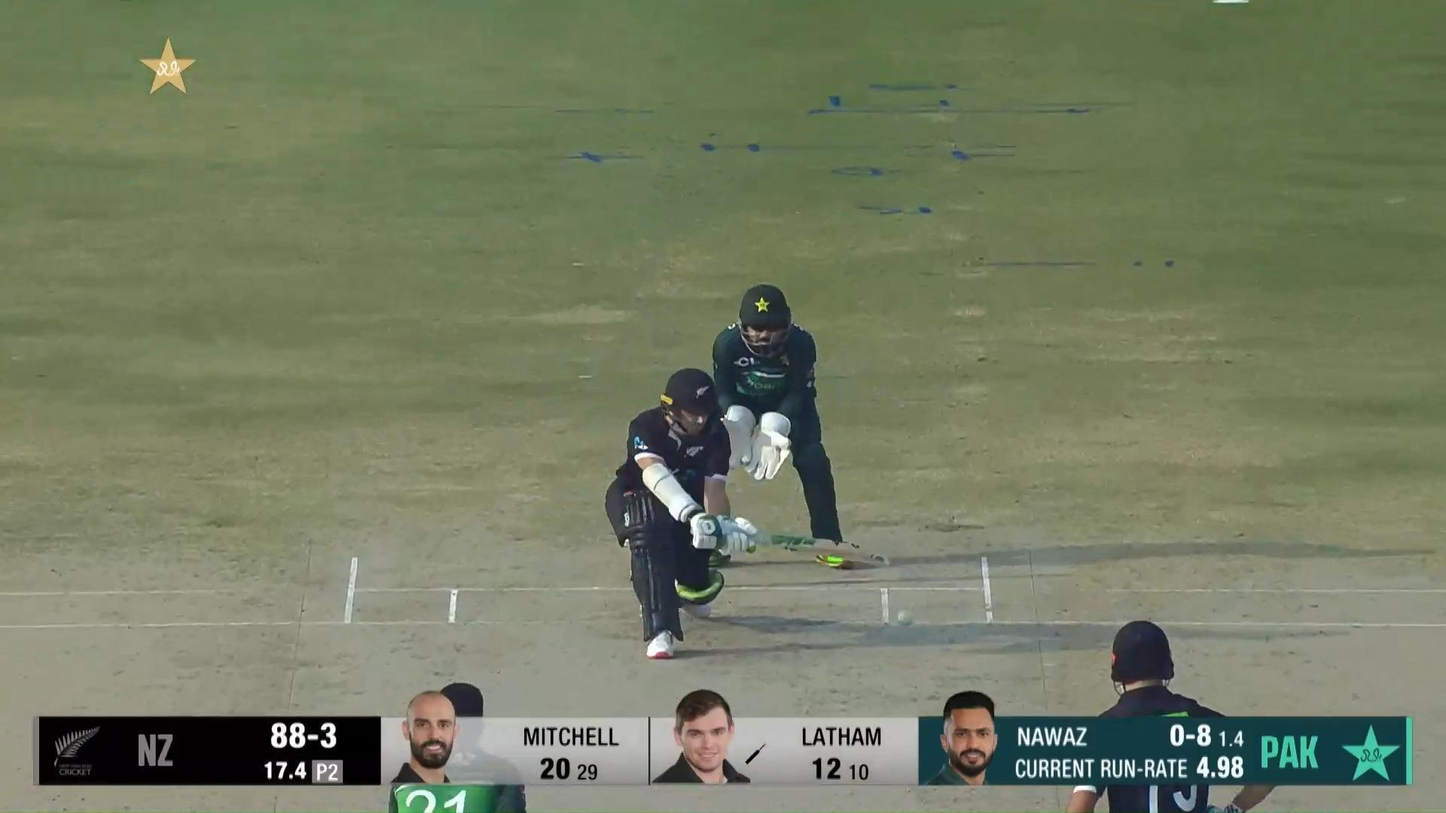BM 1: (604, 368, 892, 661)
BO: (386, 678, 530, 813)
